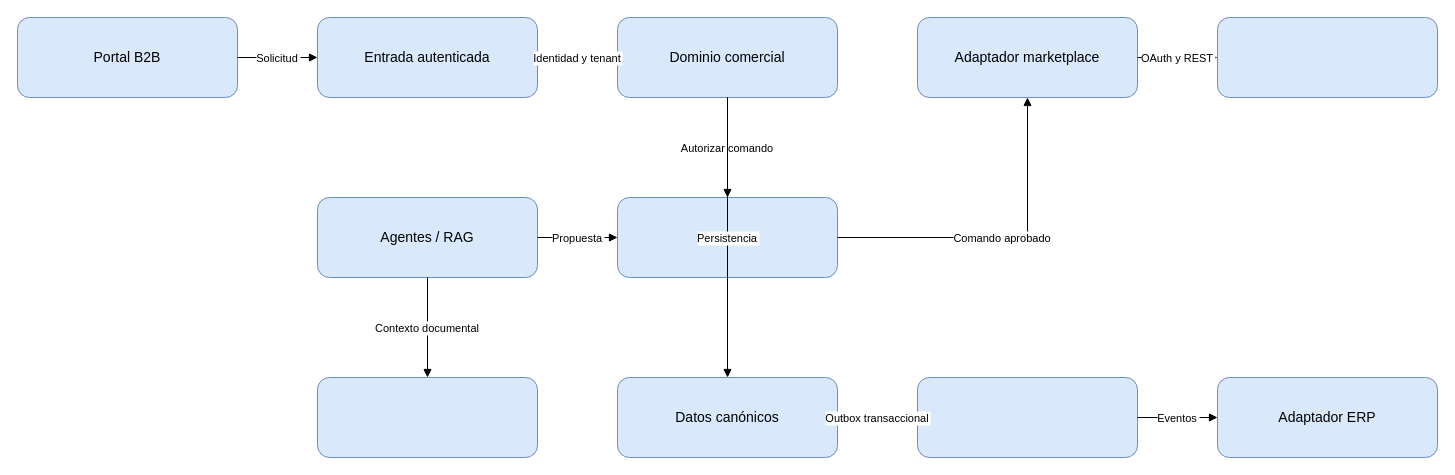
This 1455x475 diagram has some shape labels left out. Each missing label, with the box of its shape:
API Mercado Libre: (1216, 16, 1438, 98)
Cliente MCP documental: (316, 376, 538, 458)
Outbox / cola: (916, 376, 1138, 458)
Política y aprobación: (616, 196, 838, 278)
